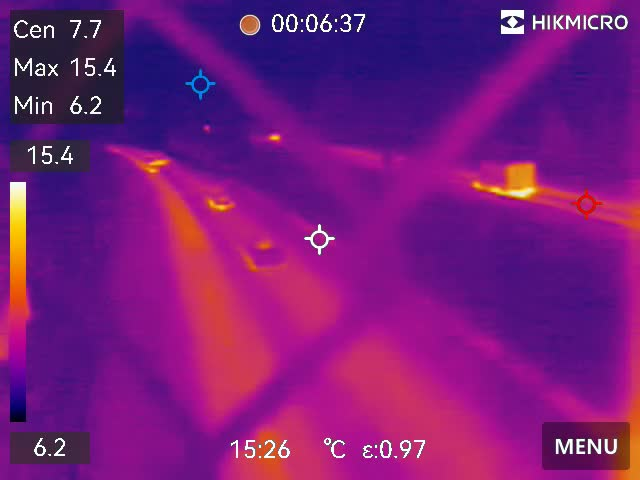heavyTruck: (467, 154, 535, 201)
